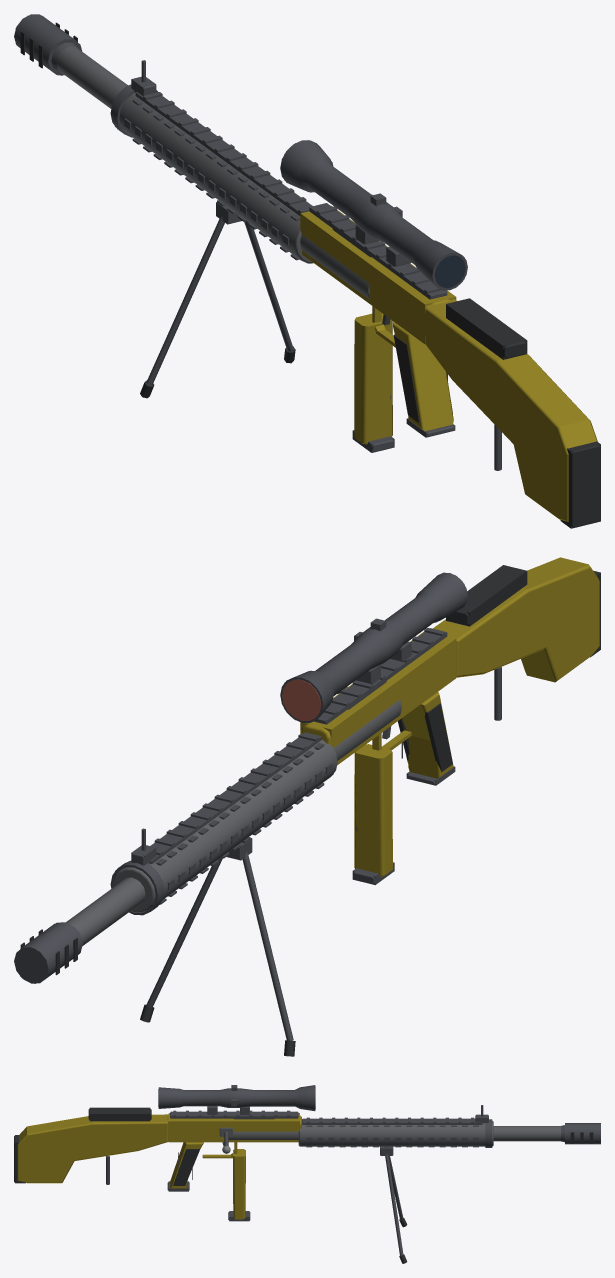
File: n_breaker.glb
3 renders of one model, top to bottom at view 1: azimuth 30°, elevation 25°; view 2: azimuth 150°, elevation 25°; view 3: azimuth 270°, elevation 25°, orthographic. The views are drawn at different scales.
Visible parts, largest first — view 1: L0, L1; view 2: L0, L1; view 3: L0, L1.
Part boxes in pixels (x1=…): L0: x1=14, y1=14, x2=600, y2=527; L1: x1=15, y1=15, x2=600, y2=528; L0: x1=14, y1=557, x2=600, y2=1056; L1: x1=14, y1=565, x2=600, y2=983; L0: x1=14, y1=1085, x2=600, y2=1263; L1: x1=15, y1=1085, x2=600, y2=1221.
Bounding box in the file's own units: 0.1835 × 0.3465 × 1.16.
